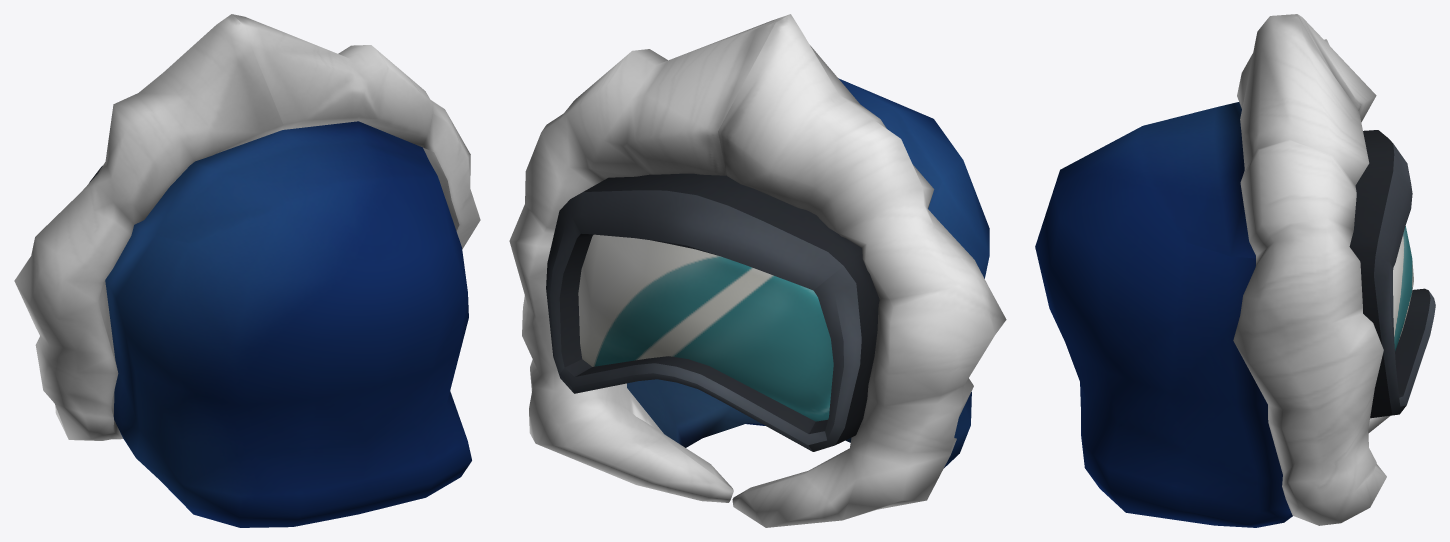
3 renders of one model, left to right at view 1: azimuth 30°, elevation 25°; view 2: azimuth 150°, elevation 25°; view 3: azimuth 270°, elevation 25°, orthographic. The views are drawn at different scales.
Parts seen in each view (by area): view 1: Mesh; view 2: Mesh; view 3: Mesh.
Boxes of the visible parts, left/top/right/bottom form: Mesh: left=14, top=14, right=480, bottom=527; Mesh: left=509, top=14, right=1006, bottom=527; Mesh: left=1035, top=14, right=1435, bottom=527.
Size of the model in its own units: 0.944 by 0.9142 by 0.7562.
